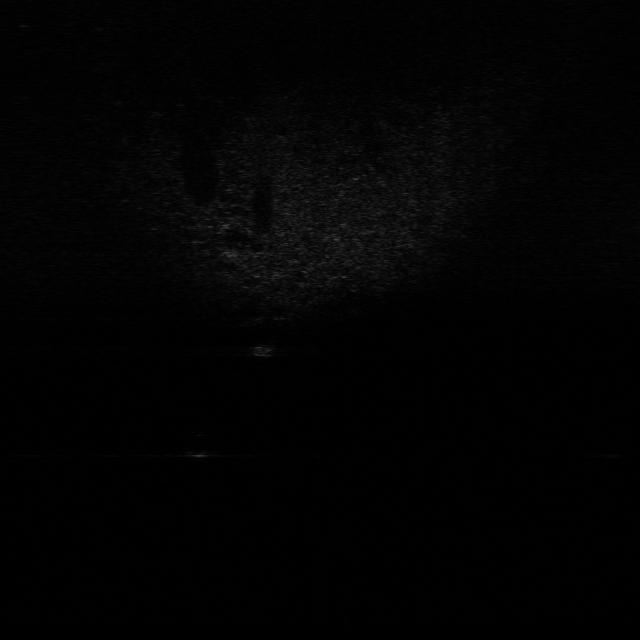ball: (183, 430, 217, 462)
cube: (250, 334, 286, 363)
